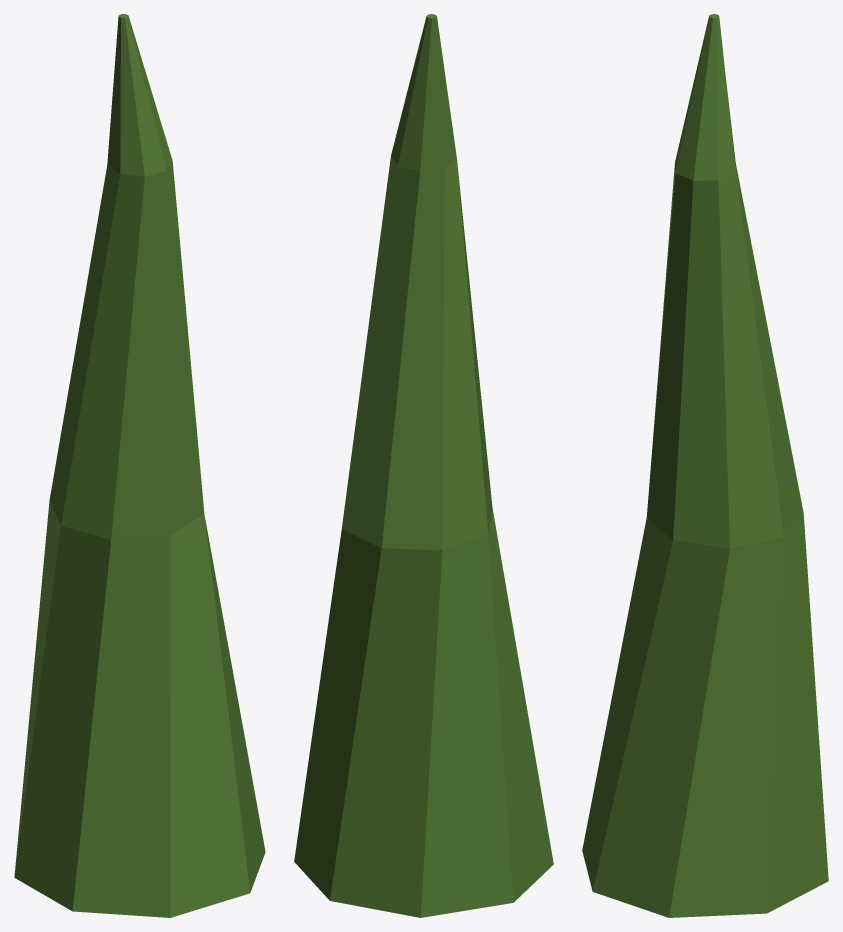
File: PineTree_Seedling.fbx
The picture shows the model from 3 angles, left to right: view 1: azimuth 30°, elevation 25°; view 2: azimuth 150°, elevation 25°; view 3: azimuth 270°, elevation 25°; orthographic projection.
Parts seen in each view (by area): view 1: Cylinder; view 2: Cylinder; view 3: Cylinder.
Part boxes in pixels (x1,y1,x2,y2): Cylinder: (14,14,265,917); Cylinder: (294,14,553,917); Cylinder: (582,14,828,917).
Size of the model in its own units: 155 by 587 by 155.
